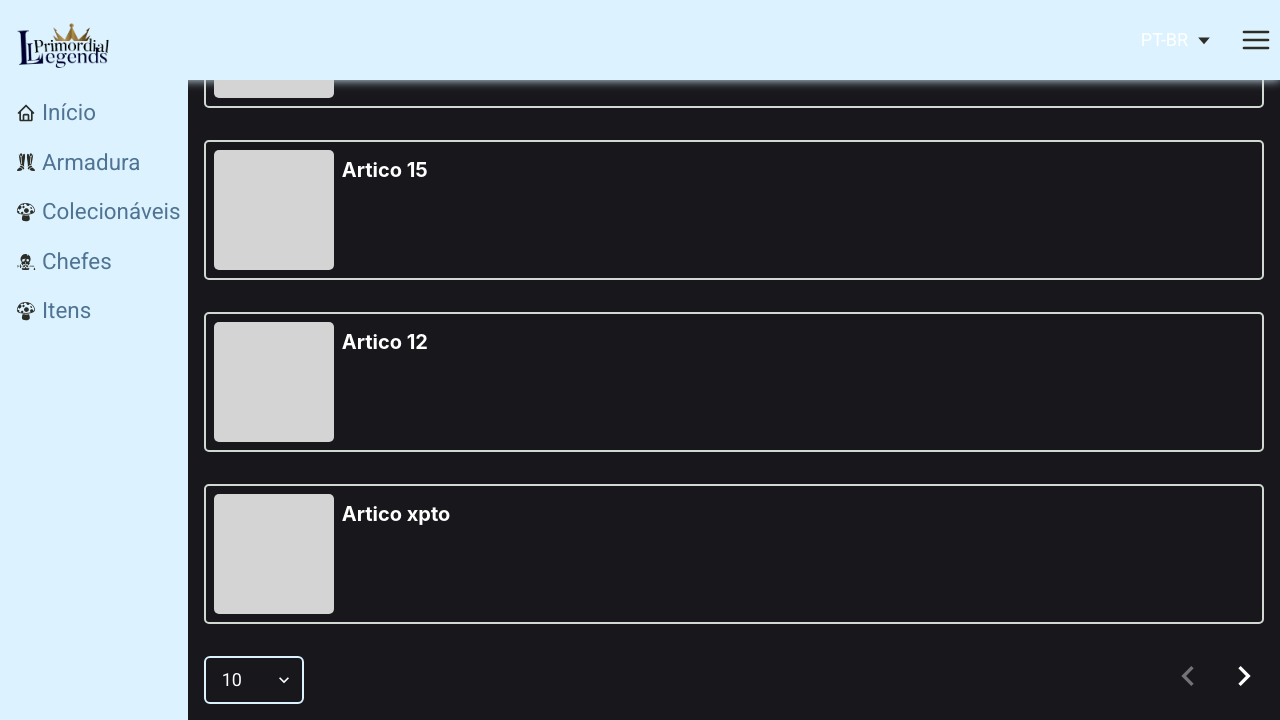
Test: feed of entity pagination › should have feed on page change
(page scrolled)
Step 1. Click the 2nd button → (1244, 676), box [1224,656,1264,696]
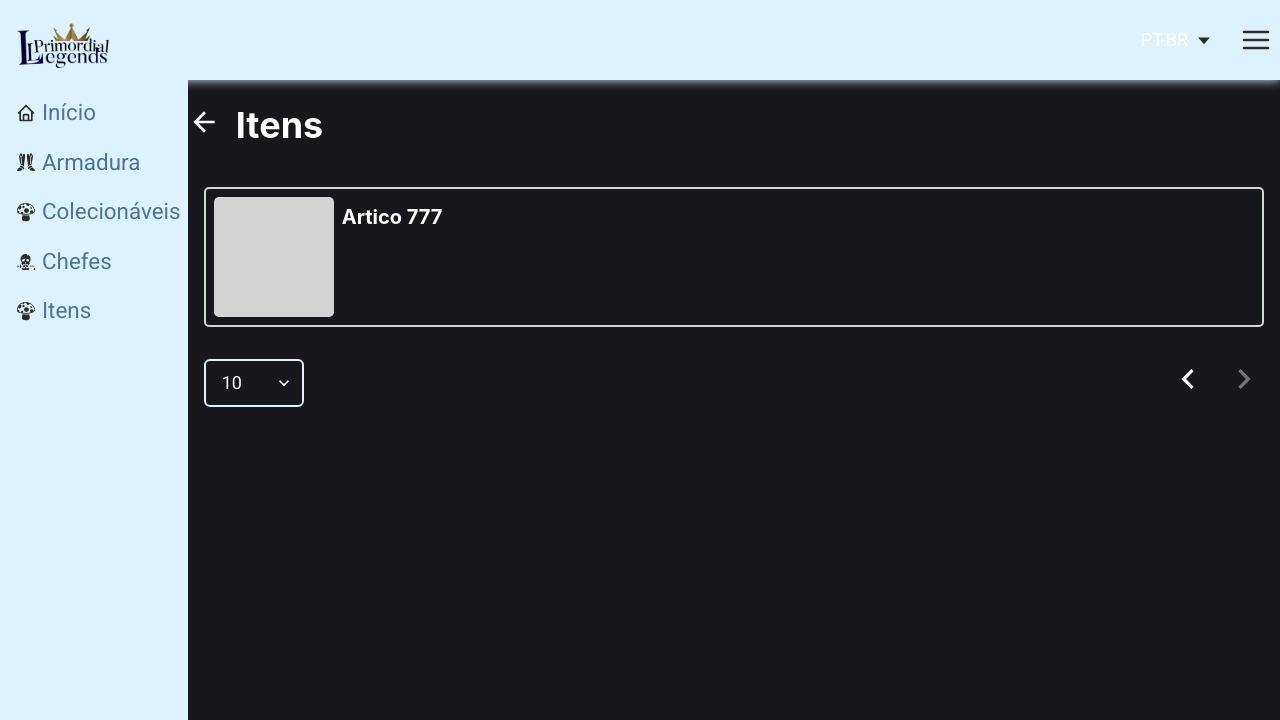
Now the number of elements with id "feed-item" is 1, box [204,187,1264,327]
